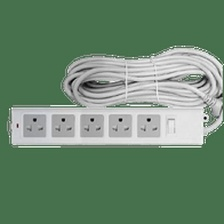three_eye_plug: (5, 103, 212, 150)
